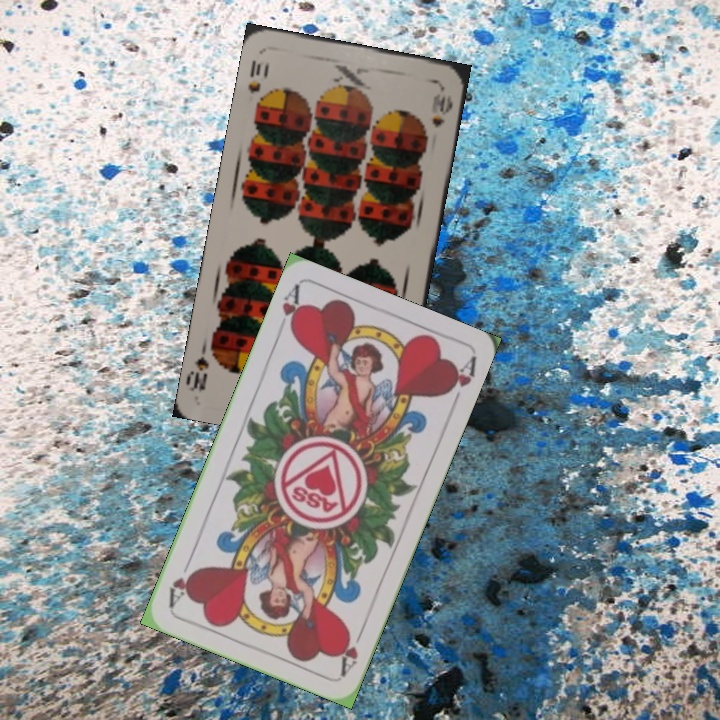HA: (335, 622, 368, 678), (278, 281, 305, 338)
S10: (244, 55, 264, 96)
